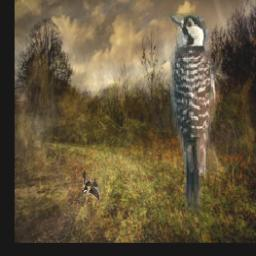Sparrow: (83, 172, 100, 201)
Woodpecker: (167, 14, 230, 220)
